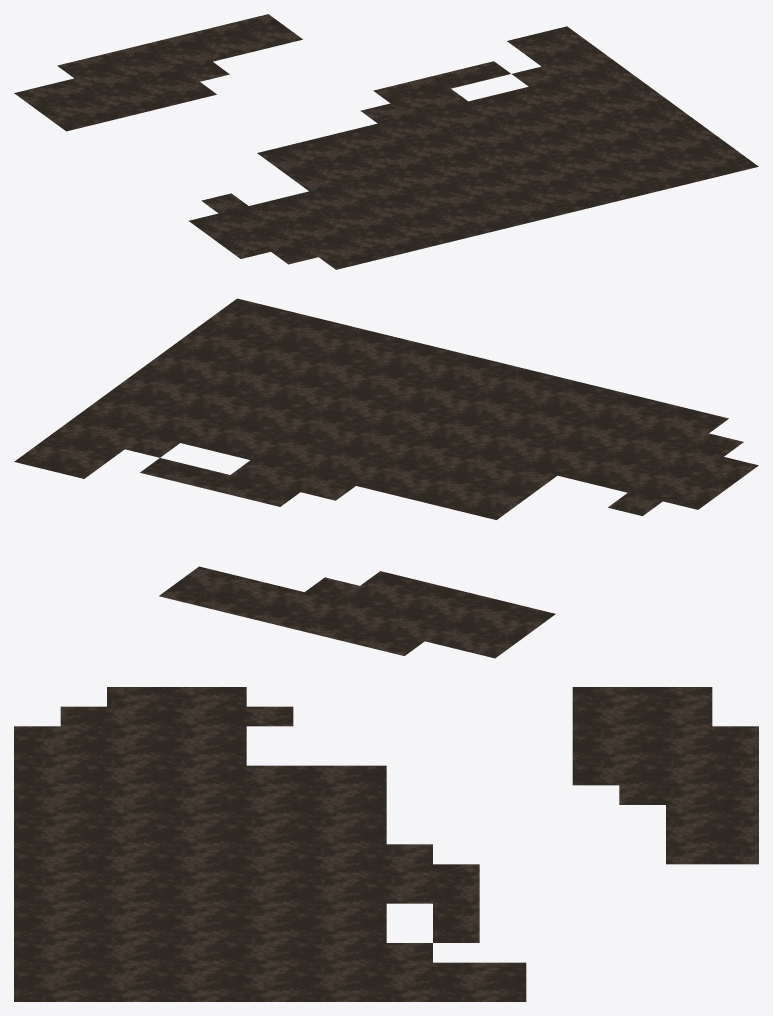
Rendered from floor_-1_-7.glb.
3 views of the same model, one above another, from view 1: azimuth 30°, elevation 25°; view 2: azimuth 150°, elevation 25°; view 3: azimuth 270°, elevation 25° (orthographic). The views are drawn at different scales.
Parts seen in each view (by area): view 1: floor_-1_-7; view 2: floor_-1_-7; view 3: floor_-1_-7.
Part boxes in pixels (x1,y1,x2,y2): floor_-1_-7: (14,14,758,269); floor_-1_-7: (14,298,758,658); floor_-1_-7: (14,687,758,1001).
Bounding box in the file's own units: 64 × 0 × 64.
Materials: 1 (1 with a texture image).
